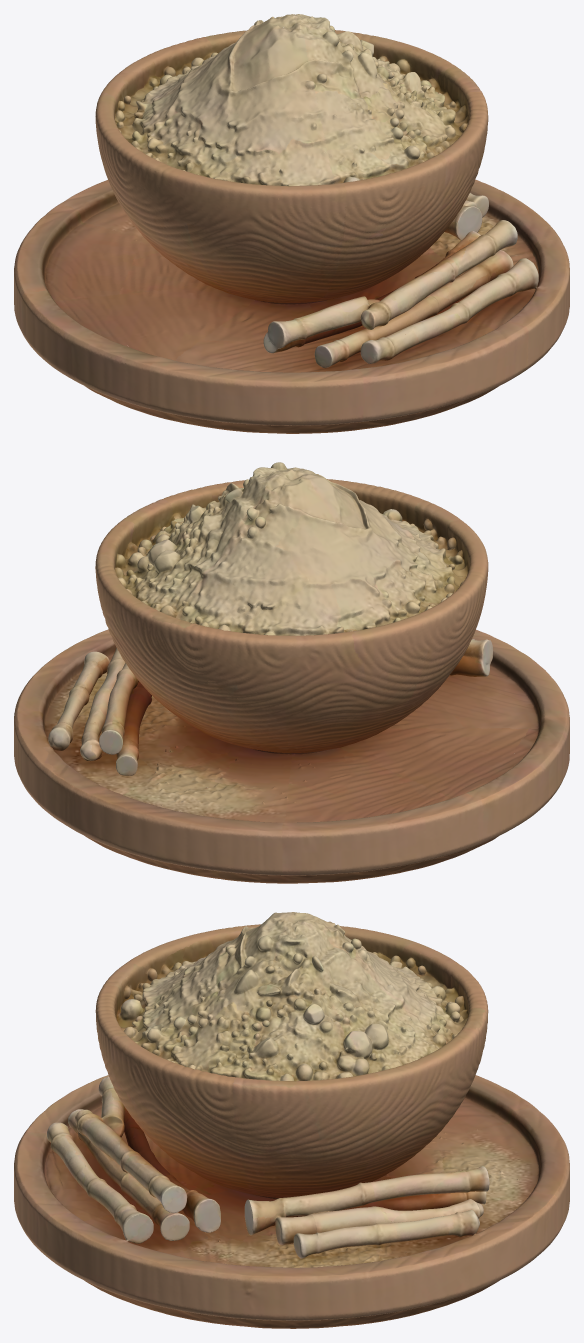
Rendered from safed-musli-compress.glb.
The picture shows the model from 3 angles, top to bottom: view 1: azimuth 30°, elevation 25°; view 2: azimuth 150°, elevation 25°; view 3: azimuth 270°, elevation 25°; orthographic projection.
Visible parts, largest first — view 1: tripo_node_3bdac9dc-866c-41e3-9a8e-2bbdd72c370f; view 2: tripo_node_3bdac9dc-866c-41e3-9a8e-2bbdd72c370f; view 3: tripo_node_3bdac9dc-866c-41e3-9a8e-2bbdd72c370f.
Boxes of the visible parts, x1=… form: tripo_node_3bdac9dc-866c-41e3-9a8e-2bbdd72c370f: x1=14, y1=14, x2=569, y2=433; tripo_node_3bdac9dc-866c-41e3-9a8e-2bbdd72c370f: x1=14, y1=462, x2=569, y2=883; tripo_node_3bdac9dc-866c-41e3-9a8e-2bbdd72c370f: x1=14, y1=912, x2=569, y2=1328.
Size of the model in its own units: 1 by 0.6104 by 1.
1 material, 1 textured.
